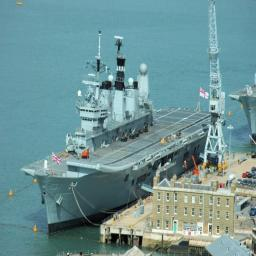Portanaves: (21, 15, 226, 242)
